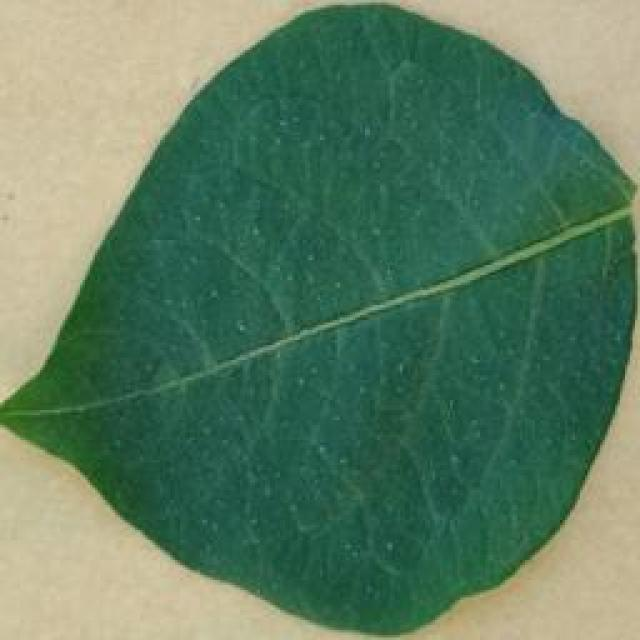Potato_Healthy: (5, 5, 629, 633)
